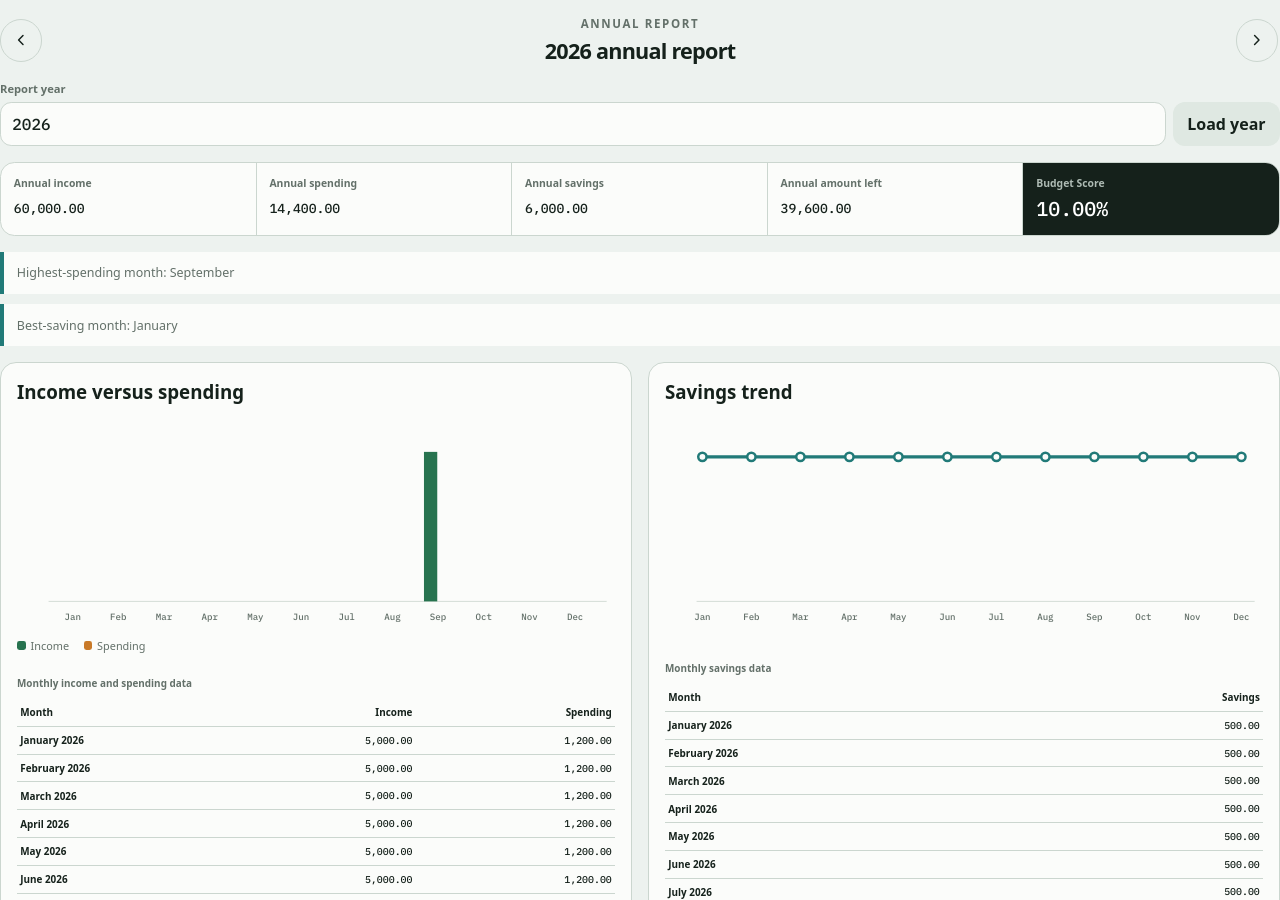
Test: AnnualReport › rejects a response whose year does not match the selected year
The width and height of the screenshot is (1280, 900).
Expected: the text "60,000.00" is shown, top-left (14, 200), bottom-right (85, 217)
Click the button named "Previous year" at (21, 40), box top-left (0, 19), bottom-right (42, 62)
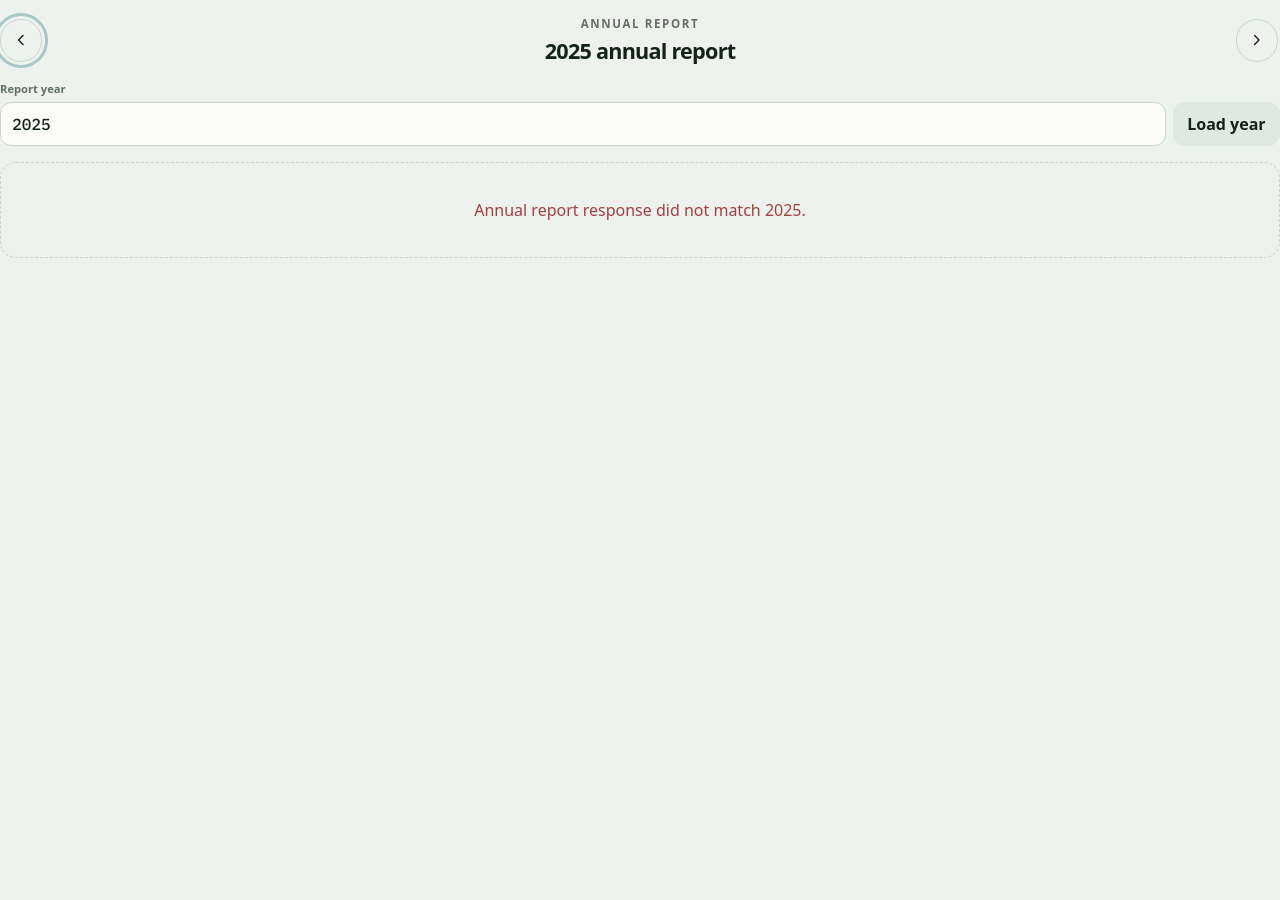
Expected: the message reads "Annual report response did not match 2025.", top-left (474, 199), bottom-right (806, 221)
Expected: the text "60,000.00" is gone
